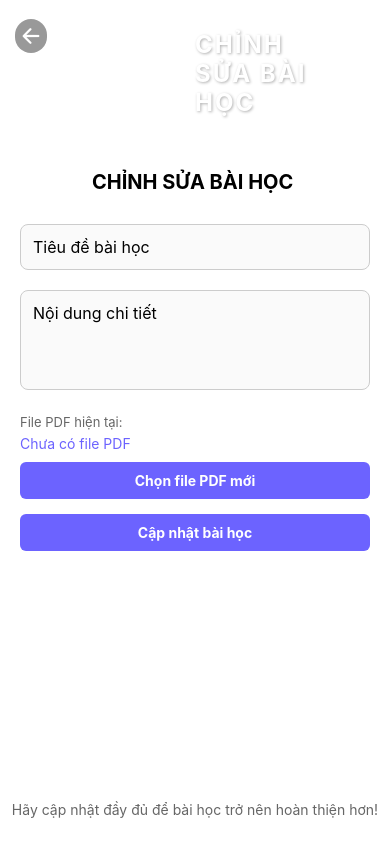
Test: EditLessonScreen UI › bấm nút Chọn file PDF mới set state file mới
The image size is (390, 844).
Click the element named "pickPDFFile": x=195, y=480 [20,462,370,499]
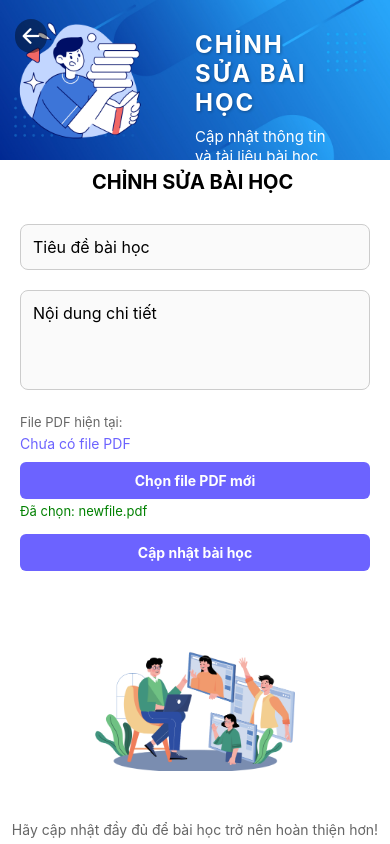
expect the text "Đã chọn: newfile.pdf" is shown: met, box [20,503,147,519]
